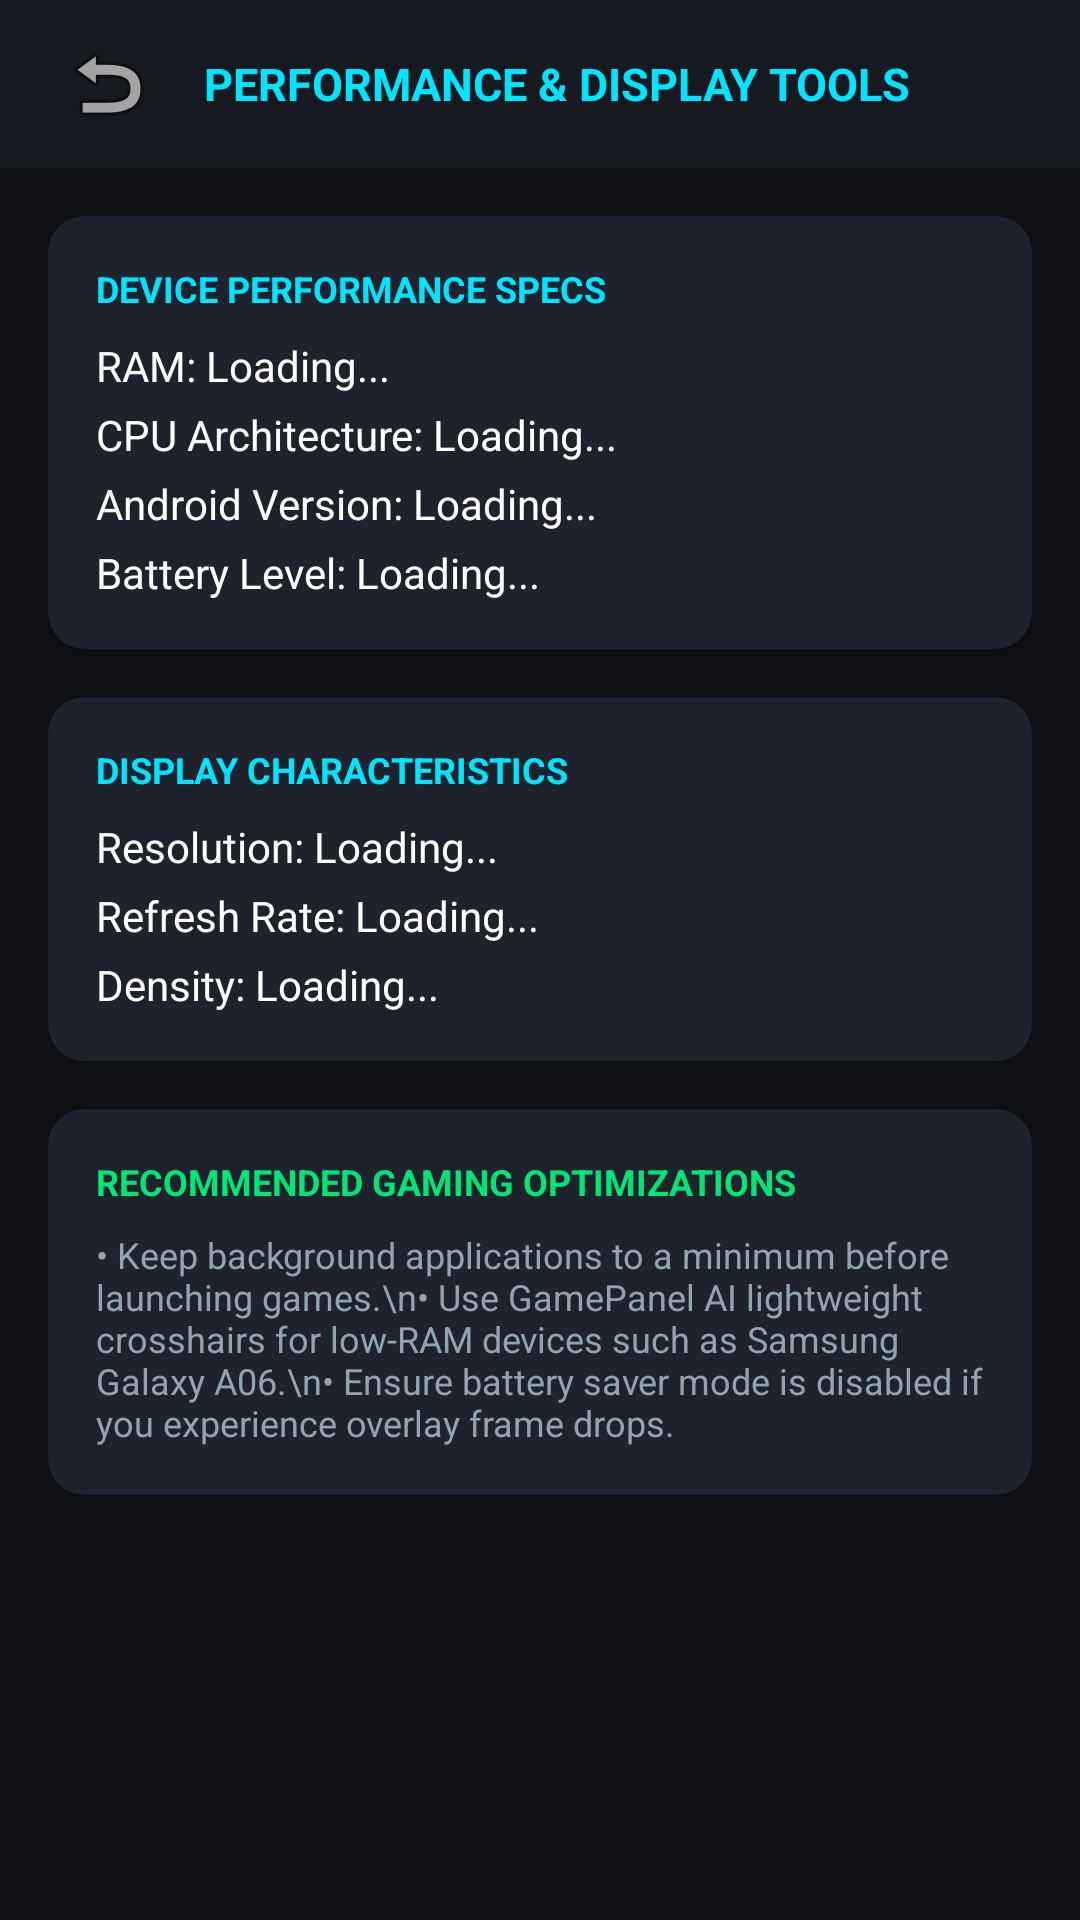

Point at icon controls on the screen. Image size 1080x1920, points as (x,y).
Back: (109,84)
